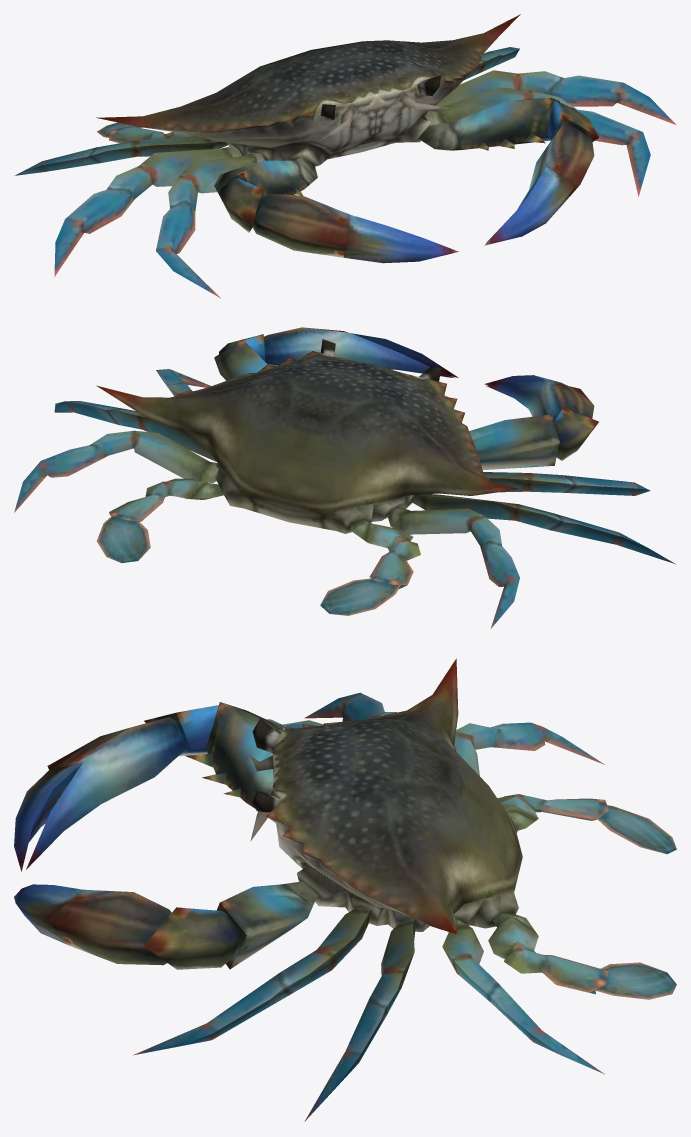
The model's file is crab-gazami.glb.
The picture shows the model from 3 angles, top to bottom: view 1: azimuth 30°, elevation 25°; view 2: azimuth 150°, elevation 25°; view 3: azimuth 270°, elevation 25°; orthographic projection. The views are drawn at different scales.
Visible parts, largest first — view 1: DiveFishGazami_node10; view 2: DiveFishGazami_node10; view 3: DiveFishGazami_node10.
Part boxes in pixels (x1,y1,x2,y2): DiveFishGazami_node10: [14, 14, 675, 298]; DiveFishGazami_node10: [14, 327, 675, 628]; DiveFishGazami_node10: [14, 658, 676, 1121].
Size of the model in its own units: 0.4157 by 0.0831 by 0.288.
1 material, 1 textured.
